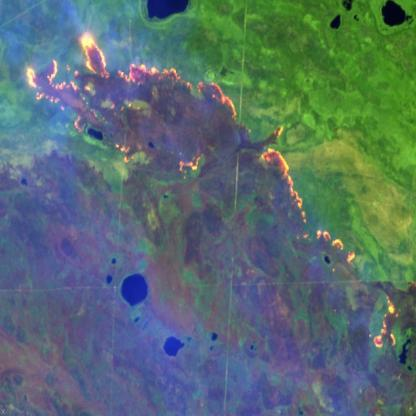fire: (14, 28, 246, 181), (256, 120, 362, 268), (365, 277, 403, 358)
